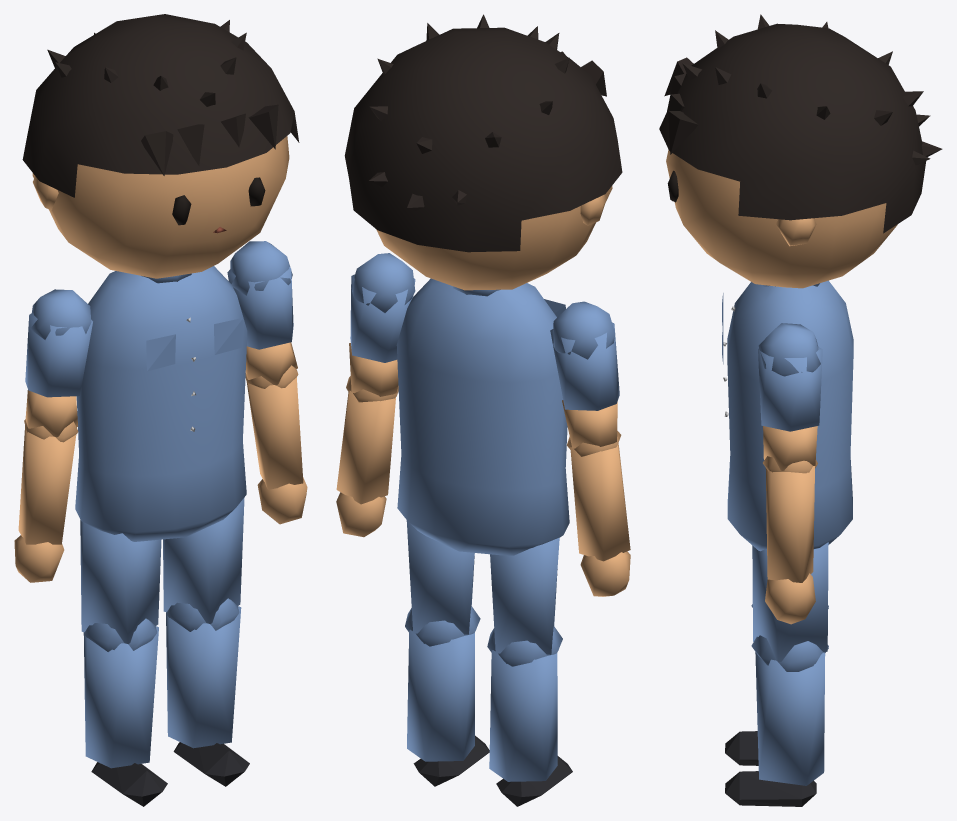
Rendered from era3_factory_man.glb.
The picture shows the model from 3 angles, left to right: view 1: azimuth 30°, elevation 25°; view 2: azimuth 150°, elevation 25°; view 3: azimuth 270°, elevation 25°; orthographic projection.
Parts seen in each view (by area): view 1: head, body, shin_L, shin_R, arm_R, leg_R, arm_L, leg_L, forearm_R, forearm_L; view 2: head, body, shin_R, shin_L, arm_R, arm_L, forearm_R, leg_R, forearm_L, leg_L; view 3: head, body, shin_L, arm_L, forearm_L, leg_L, shin_R.
Boxes of the visible parts, <box> form: head: <box>22,14,299,278</box>; body: <box>75,266,247,541</box>; shin_L: <box>166,598,249,786</box>; shin_R: <box>83,618,167,806</box>; arm_R: <box>24,289,92,441</box>; leg_R: <box>80,520,161,651</box>; arm_L: <box>227,241,298,388</box>; leg_L: <box>163,497,244,631</box>; forearm_R: <box>14,425,76,582</box>; forearm_L: <box>247,373,307,524</box>; head: <box>344,14,622,290</box>; body: <box>396,278,569,555</box>; shin_R: <box>487,627,572,806</box>; shin_L: <box>405,607,489,786</box>; arm_R: <box>550,301,621,456</box>; arm_L: <box>346,253,415,402</box>; forearm_R: <box>570,438,630,596</box>; leg_R: <box>487,537,562,666</box>; forearm_L: <box>336,380,397,537</box>; leg_L: <box>405,520,480,646</box>; head: <box>659,14,942,288</box>; body: <box>722,280,853,551</box>; shin_L: <box>725,635,828,806</box>; arm_L: <box>758,323,822,472</box>; forearm_L: <box>763,456,815,624</box>; leg_L: <box>751,542,828,671</box>; shin_R: <box>725,605,828,765</box>.
Bounding box in the file's own units: 0.6011 × 1.48 × 0.5093.
